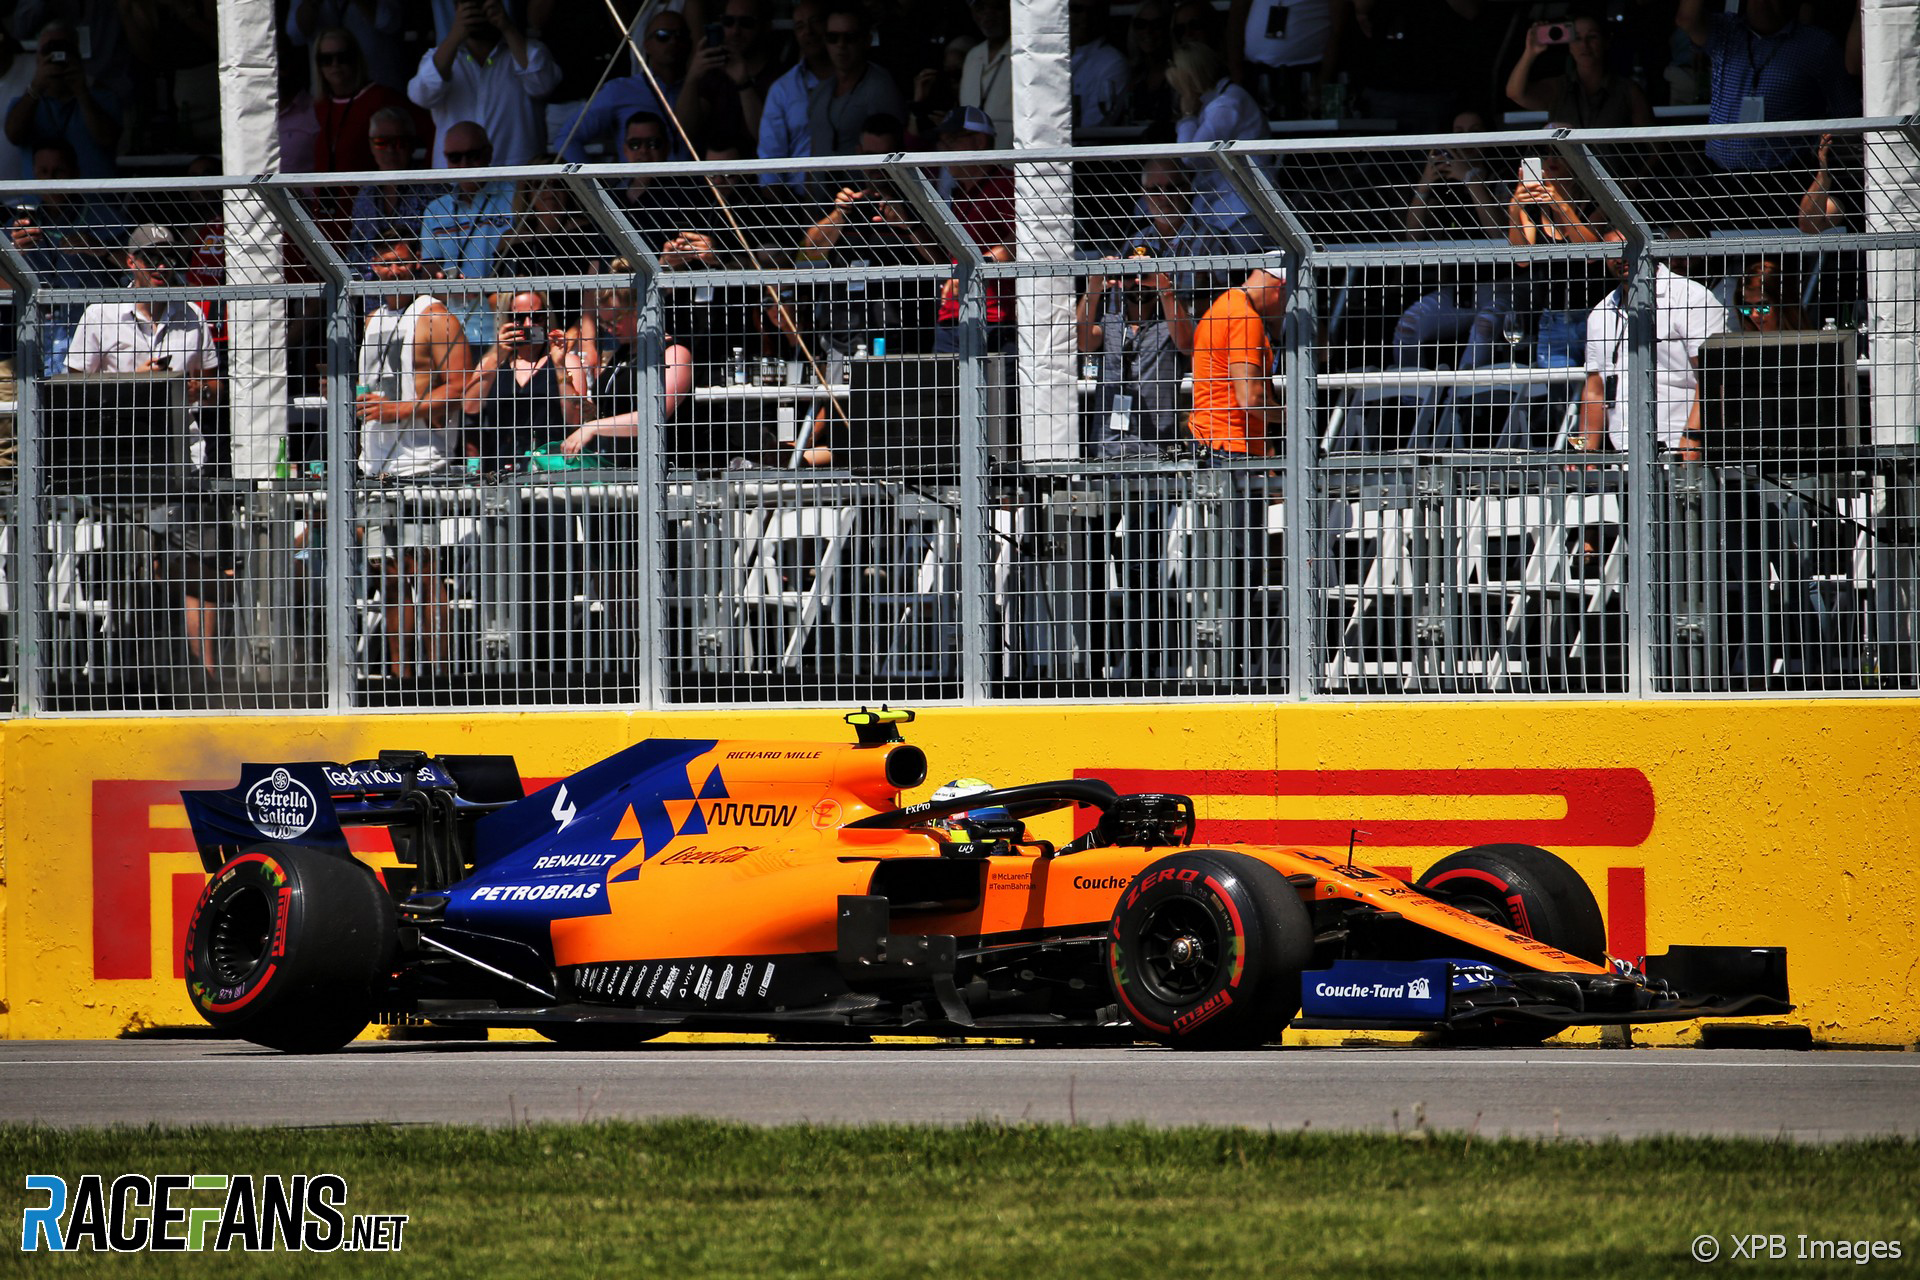F1 Car: (173, 710, 1817, 1069)
